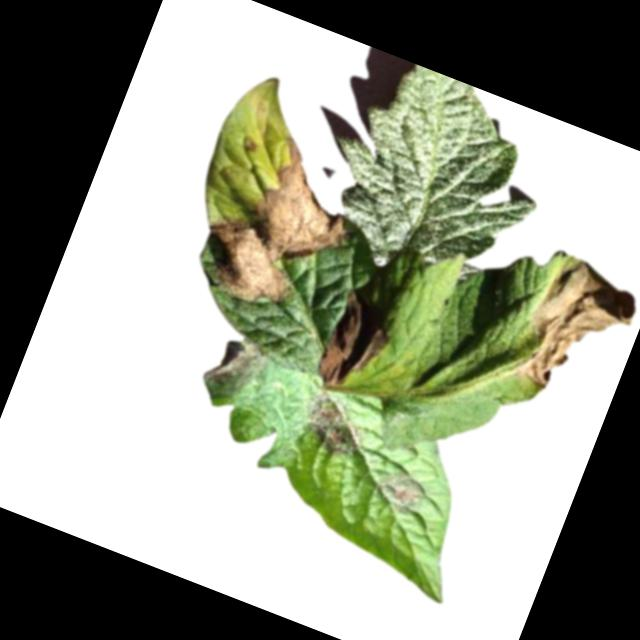Late_blight: (185, 120, 378, 331), (506, 247, 640, 412), (311, 287, 402, 404), (295, 386, 380, 465), (198, 323, 275, 406), (367, 462, 432, 521)
healthy: (299, 47, 570, 311)
